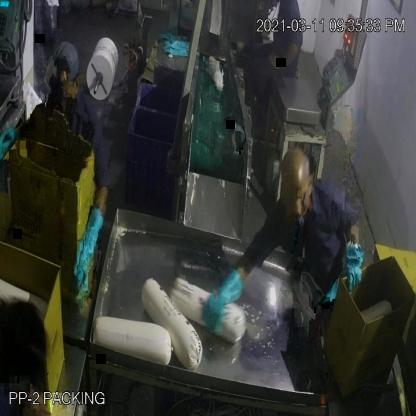no_glove: (266, 40, 304, 76)
